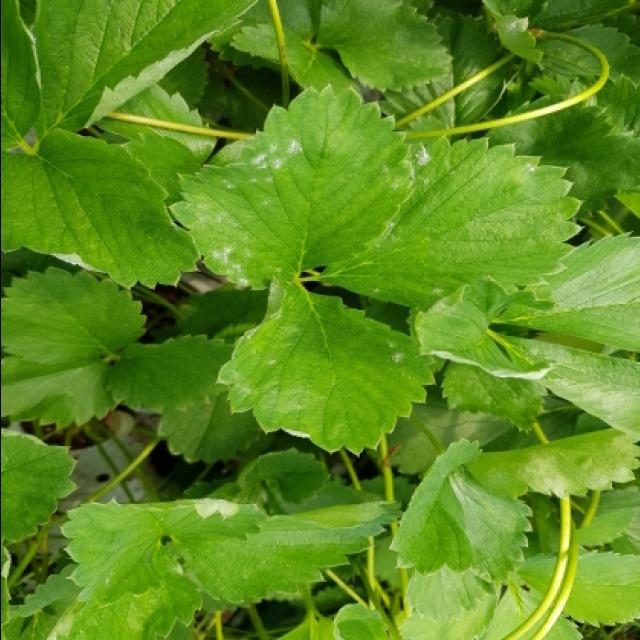Powdery Mildew Leaf: (165, 83, 416, 291), (317, 134, 584, 310), (215, 278, 438, 459), (2, 125, 200, 292), (60, 495, 267, 609), (411, 281, 560, 382), (481, 2, 544, 70)
